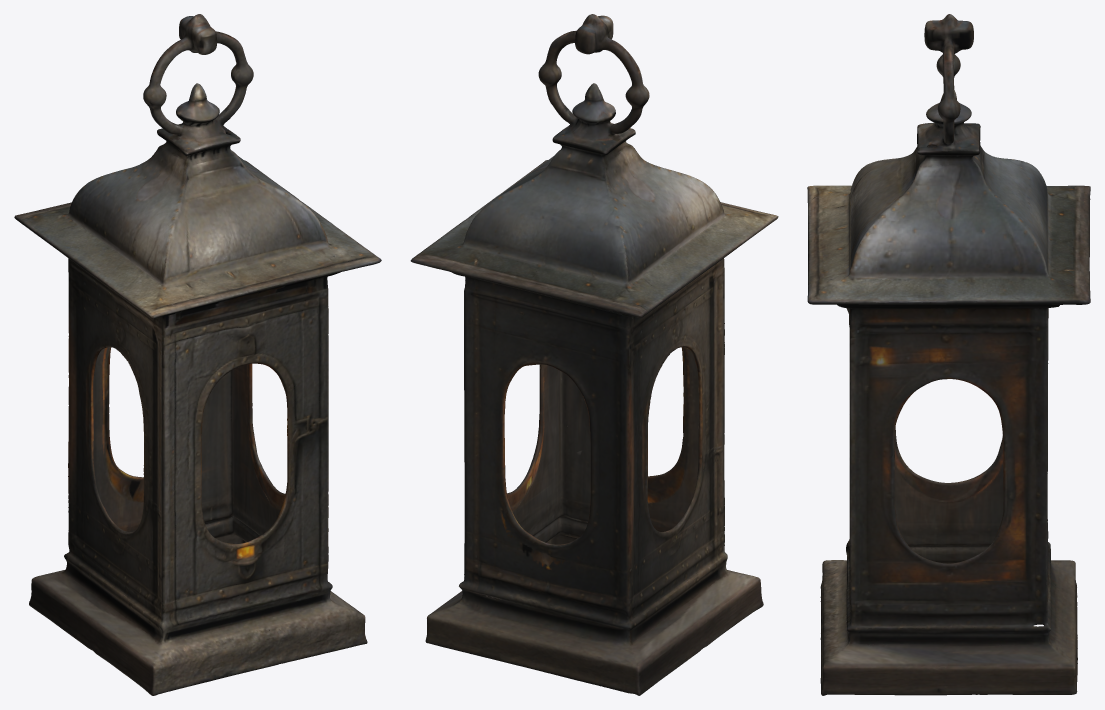
Rendered from medieval_lantern_ult_0617055916_texture.fbx.
The picture shows the model from 3 angles, left to right: view 1: azimuth 30°, elevation 25°; view 2: azimuth 150°, elevation 25°; view 3: azimuth 270°, elevation 25°; orthographic projection. The views are drawn at different scales.
Parts seen in each view (by area): view 1: Mesh1_Mesh1.018; view 2: Mesh1_Mesh1.018; view 3: Mesh1_Mesh1.018.
Part boxes in pixels (bbox=[...]): Mesh1_Mesh1.018: bbox=[14, 14, 381, 695]; Mesh1_Mesh1.018: bbox=[410, 14, 778, 695]; Mesh1_Mesh1.018: bbox=[807, 14, 1090, 695].
Bounding box in the file's own units: 79.86 × 200 × 82.
Materials: 1 (1 with a texture image).
